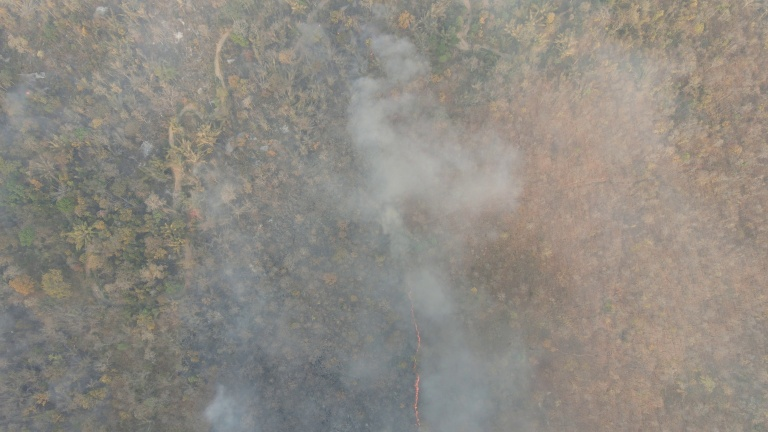fire: (399, 295, 426, 432)
smoke: (336, 73, 518, 223), (400, 257, 520, 427), (202, 386, 258, 430)
